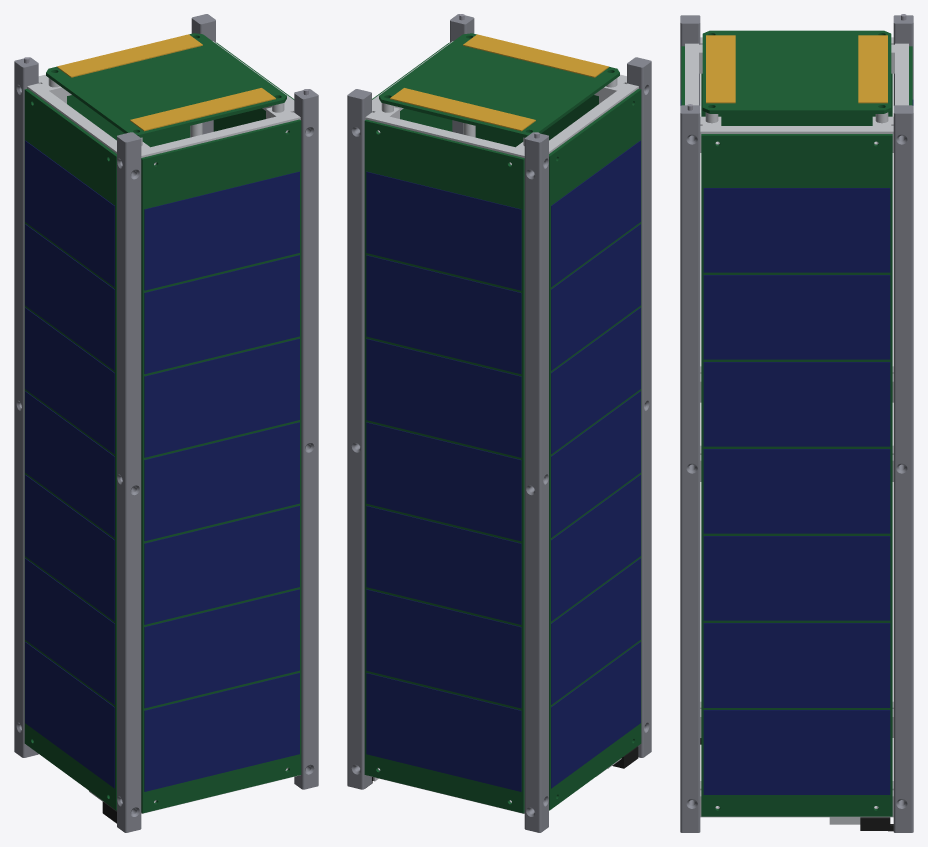
The model's file is AON-1-ASM.glb.
3 renders of one model, left to right at view 1: azimuth 30°, elevation 25°; view 2: azimuth 150°, elevation 25°; view 3: azimuth 270°, elevation 25°, orthographic. The views are drawn at different scales.
Parts seen in each view (by area): view 1: E06 cells -Y, E06 cells -X, E06 solar panel -Y, AON-101 rail -X-Y, AON-102 rail +X-Y, E05 antenna board, E06 solar panel -X, AON-102 rail -X+Y, E05 UHF tape elements (stowed), AON-105 +Z frame, E06 solar panel +Y, E06 solar panel +X (+1 smaller); view 2: E06 cells +Y, E06 cells -X, E06 solar panel +Y, AON-102 rail -X+Y, AON-101 rail +X+Y, E05 antenna board, E06 solar panel -X, AON-101 rail -X-Y, E05 UHF tape elements (stowed), AON-105 +Z frame, E06 solar panel -Y, E06 solar panel +X (+1 smaller); view 3: E06 cells +X, E06 solar panel +X, AON-101 rail +X+Y, AON-102 rail +X-Y, E05 antenna board, E05 UHF tape elements (stowed), AON-105 +Z frame, E06 solar panel -X, AON-101 rail -X-Y, AON-102 rail -X+Y, AON-103 -Z frame, SW1-SW2 deployment switches.
Part boxes in pixels (x1,y1,x2,y2): E06 cells -Y: (144, 171, 299, 791); E06 cells -X: (25, 140, 114, 788); E06 solar panel -Y: (141, 119, 301, 813); AON-101 rail -X-Y: (117, 132, 141, 832); AON-102 rail +X-Y: (294, 89, 318, 789); E05 antenna board: (46, 33, 286, 137); E06 solar panel -X: (24, 88, 116, 810); AON-102 rail -X+Y: (14, 57, 38, 757); E05 UHF tape elements (stowed): (57, 34, 275, 131); AON-105 +Z frame: (27, 41, 300, 165); E06 solar panel +Y: (67, 95, 190, 147); E06 solar panel +X: (213, 42, 294, 131); E06 cells +Y: (366, 171, 521, 791); E06 cells -X: (551, 140, 640, 788); E06 solar panel +Y: (364, 119, 524, 813); AON-102 rail -X+Y: (524, 132, 548, 832); AON-101 rail +X+Y: (347, 89, 371, 789); E05 antenna board: (379, 33, 619, 137); E06 solar panel -X: (549, 88, 641, 810); AON-101 rail -X-Y: (627, 57, 651, 757); E05 UHF tape elements (stowed): (390, 34, 608, 131); AON-105 +Z frame: (365, 41, 638, 165); E06 solar panel -Y: (475, 95, 598, 147); E06 solar panel +X: (372, 42, 452, 131); E06 cells +X: (703, 188, 890, 794); E06 solar panel +X: (701, 134, 892, 816); AON-101 rail +X+Y: (893, 105, 913, 832); AON-102 rail +X-Y: (680, 105, 700, 832); E05 antenna board: (702, 30, 891, 113); E05 UHF tape elements (stowed): (706, 35, 887, 103); AON-105 +Z frame: (685, 37, 908, 152); E06 solar panel -X: (701, 73, 892, 125); AON-101 rail -X-Y: (680, 15, 700, 105); AON-102 rail -X+Y: (893, 15, 913, 105); AON-103 -Z frame: (700, 701, 893, 817); SW1-SW2 deployment switches: (700, 738, 893, 831).
Bounding box in the file's own units: 100 × 344 × 100.
